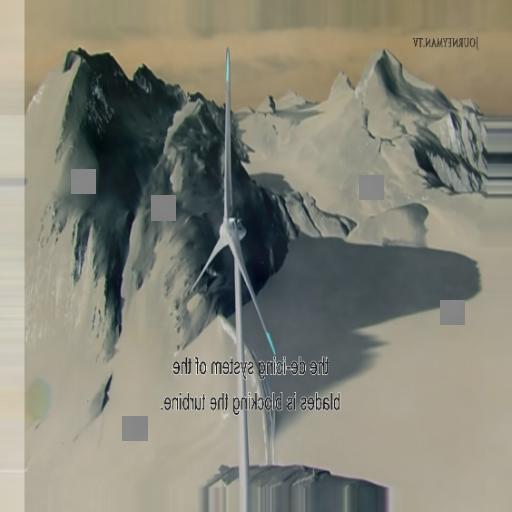wind turbine: (191, 48, 278, 475)
